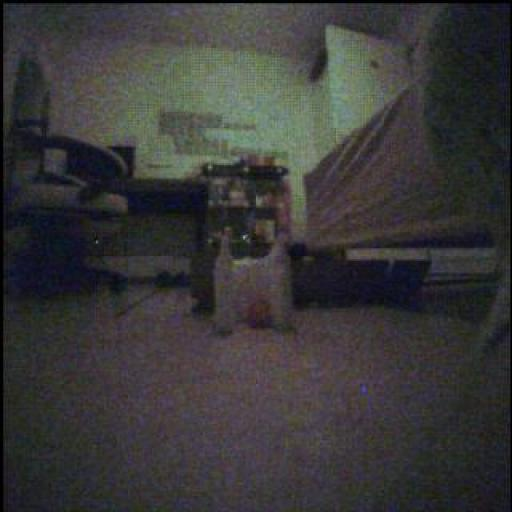basket: (248, 298, 272, 329)
